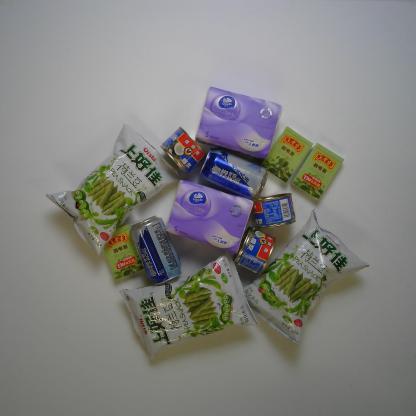Alcohol: (197, 146, 270, 202), (130, 213, 184, 288)
Candy: (288, 141, 346, 202), (258, 124, 315, 185), (101, 222, 147, 282)
Canned Food: (158, 124, 208, 178), (231, 226, 277, 276), (250, 191, 298, 231)
Puffed Food: (44, 121, 185, 258), (240, 206, 372, 350), (117, 246, 261, 365)
Tissue: (163, 178, 258, 256), (193, 83, 285, 162)
